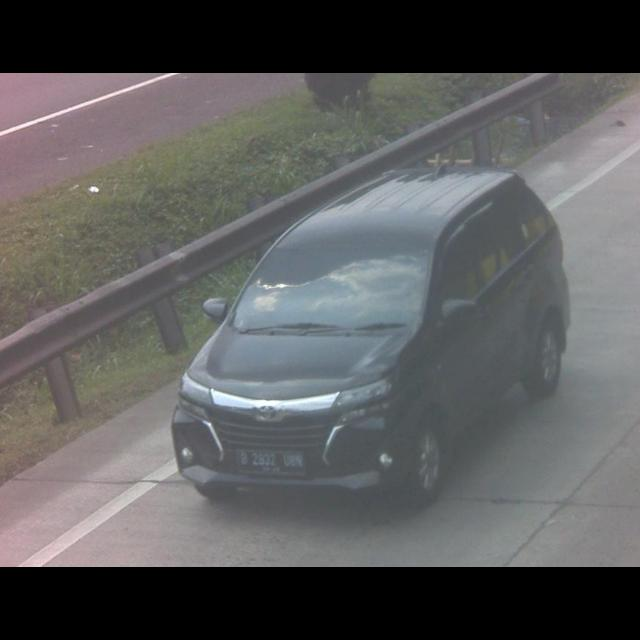plate: (233, 450, 304, 478)
